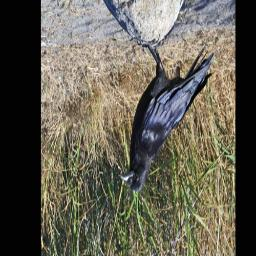Crow: (119, 32, 216, 197)
